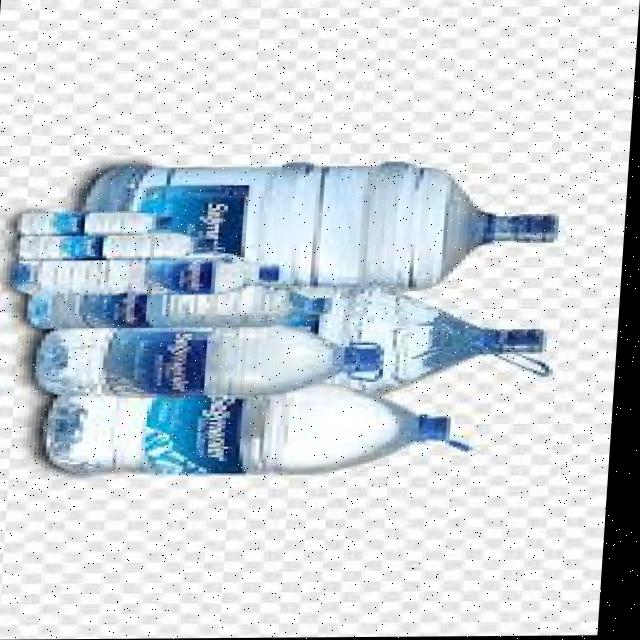bottle: (3, 158, 591, 518)
